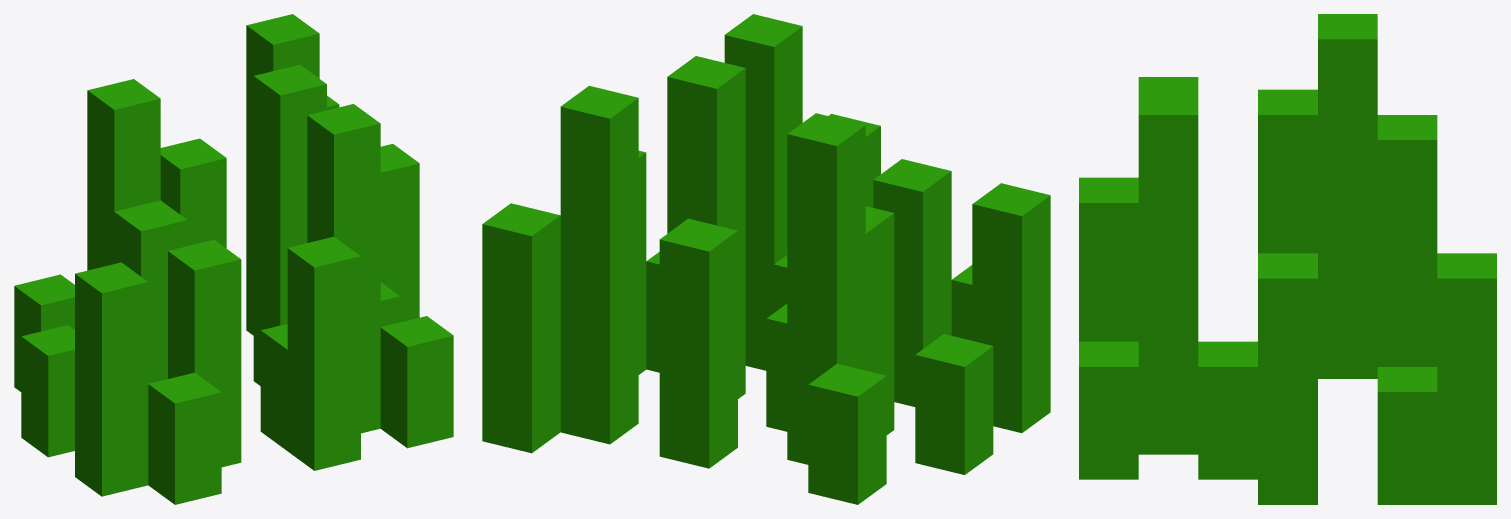
The model's file is grass.fbx.
The picture shows the model from 3 angles, left to right: view 1: azimuth 30°, elevation 25°; view 2: azimuth 150°, elevation 25°; view 3: azimuth 270°, elevation 25°; orthographic projection. The views are drawn at different scales.
Parts seen in each view (by area): view 1: polySurface4; view 2: polySurface4; view 3: polySurface4.
Boxes of the visible parts, x1,y1,x2,y2 form: polySurface4: (14, 14, 453, 504); polySurface4: (482, 14, 1050, 504); polySurface4: (1079, 14, 1496, 504).
Size of the model in its own units: 10 by 7.85 by 8.75.
